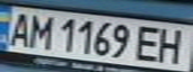1: (72, 18, 96, 55), (54, 15, 78, 52)
6: (90, 19, 115, 56)
9: (109, 21, 136, 60)
A: (3, 9, 36, 47)
E: (133, 24, 166, 63)
H: (154, 25, 190, 64)
M: (24, 11, 54, 51)
